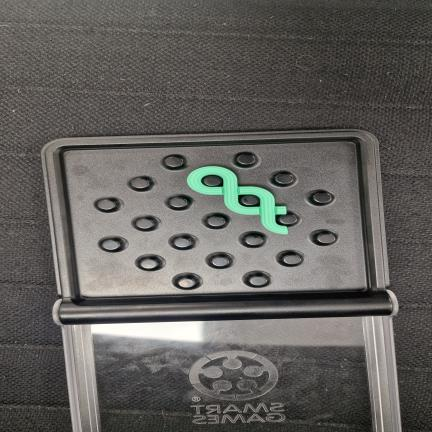F_Teal: (187, 167, 287, 234)
board: (41, 130, 397, 324)
hinge: (64, 291, 381, 321)
pin: (237, 153, 256, 166), (164, 156, 184, 168), (139, 258, 159, 270), (202, 175, 223, 186), (135, 218, 154, 230), (101, 239, 120, 251), (282, 254, 302, 265), (275, 173, 293, 185), (169, 197, 188, 208), (97, 199, 116, 210), (313, 192, 332, 203), (278, 214, 297, 225), (207, 216, 226, 227), (244, 235, 263, 246), (316, 233, 335, 244), (211, 256, 230, 267), (249, 275, 268, 286), (131, 178, 149, 189), (241, 195, 259, 206), (174, 237, 192, 248), (177, 278, 196, 288)
